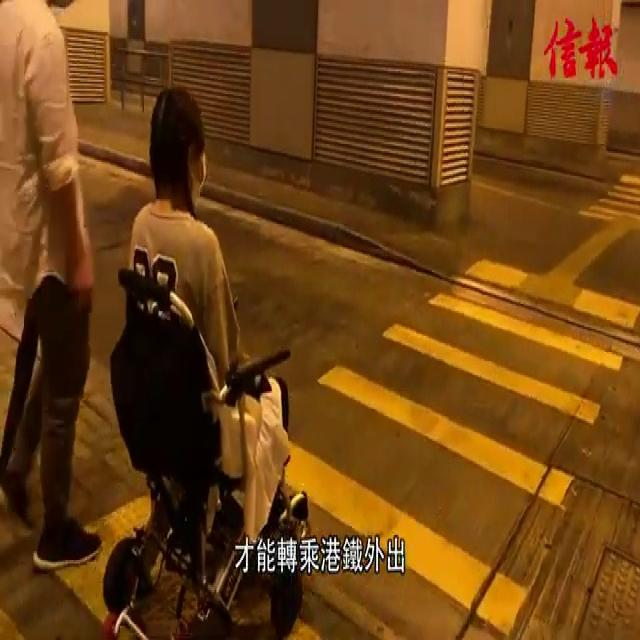wheelchairs: (96, 243, 311, 640)
